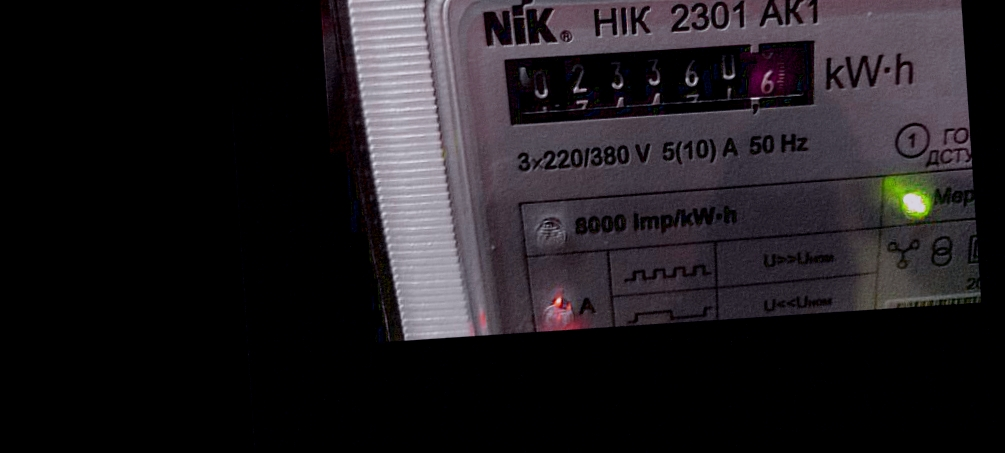0: (530, 66, 553, 101), (720, 50, 739, 82)
2: (568, 61, 593, 96)
3: (606, 58, 629, 92), (645, 55, 666, 87)
6: (681, 55, 703, 89), (757, 65, 779, 96)
screen: (486, 21, 834, 141)
